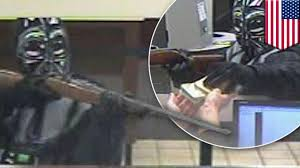rifle: (1, 72, 231, 136)
